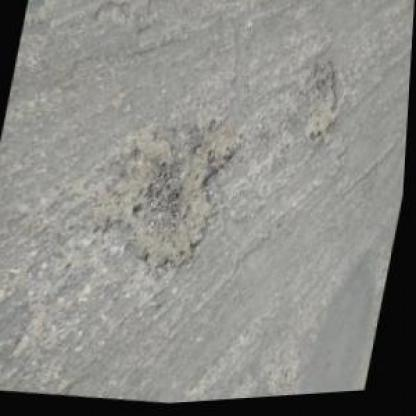pothole: (90, 111, 247, 281), (296, 58, 354, 151)
